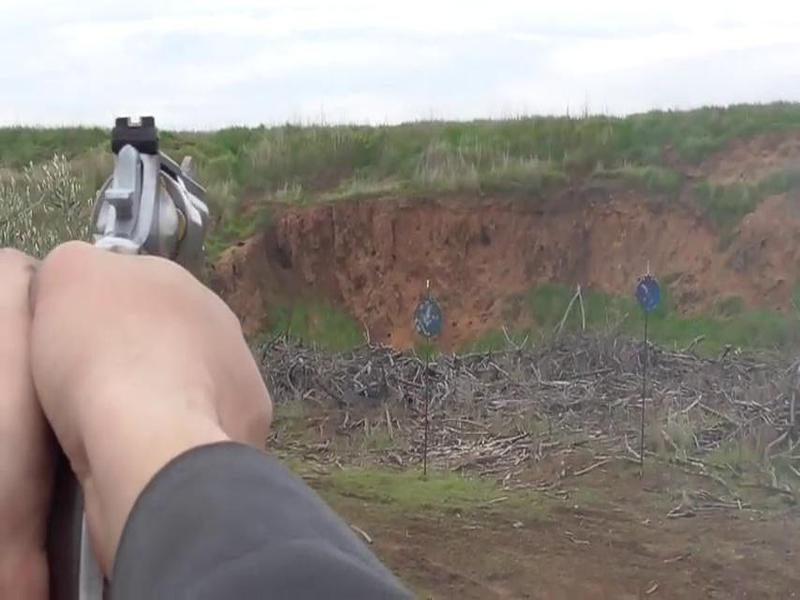Revolver: (86, 104, 221, 286)
